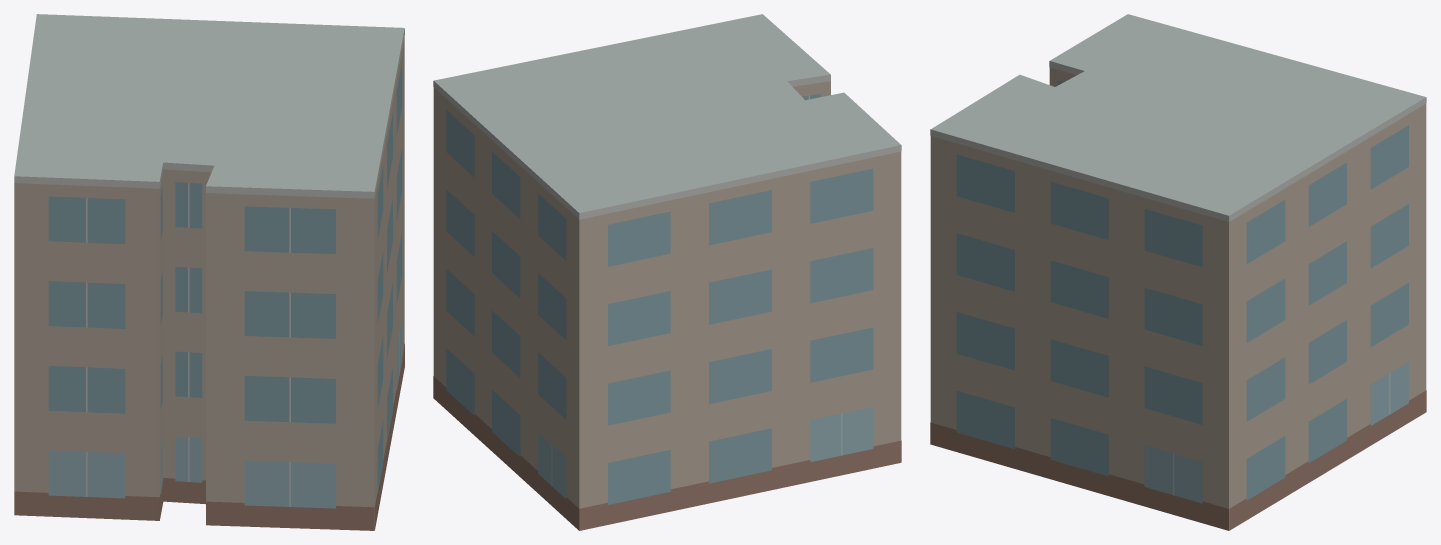
File: survey-upis-32741601.glb
3 renders of one model, left to right at view 1: azimuth 30°, elevation 25°; view 2: azimuth 150°, elevation 25°; view 3: azimuth 270°, elevation 25°, orthographic. The views are drawn at different scales.
Visible parts, largest first — view 1: survey-upis-32741601.tmp; view 2: survey-upis-32741601.tmp; view 3: survey-upis-32741601.tmp.
Boxes of the visible parts, x1=… form: survey-upis-32741601.tmp: x1=14, y1=14, x2=404, y2=530; survey-upis-32741601.tmp: x1=433, y1=14, x2=901, y2=530; survey-upis-32741601.tmp: x1=930, y1=14, x2=1426, y2=530.
Bounding box in the file's own units: 16.58 × 12.06 × 17.21.
